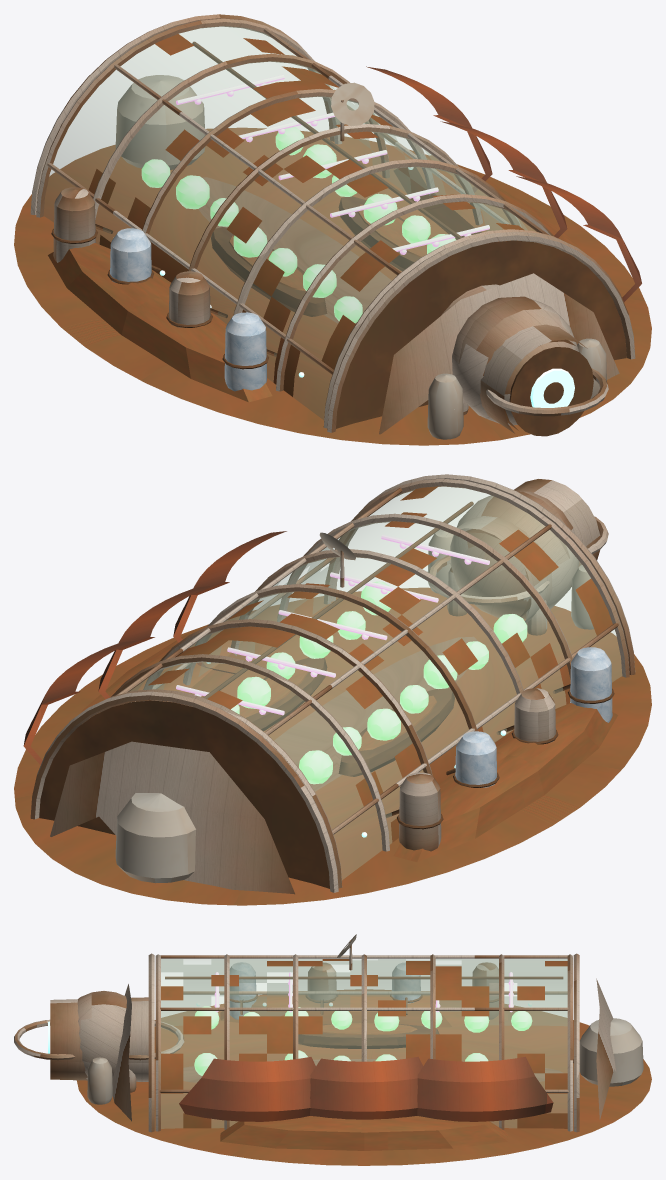
Rendered from greenhouse.glb.
3 views of the same model, one above another, from view 1: azimuth 30°, elevation 25°; view 2: azimuth 150°, elevation 25°; view 3: azimuth 270°, elevation 25° (orthographic). The views are drawn at different scales.
Visible parts, largest first — view 1: Glass, Pad, DiskFore, BermL, BulgeFore, Vestibule, Floor, Scrubber, EndRibFore, HatchDoor, BermR, Rib0 (+33 smaller); view 2: Glass, Pad, BulgeAft, DiskAft, BermL, Vestibule, Scrubber, Floor, EndRibAft, AirlockTube, Rib6, Rib1 (+31 smaller); view 3: Glass, Pad, BermR, Radiator0, Radiator2, Radiator1, AirlockTube, BermL, Vestibule, Scrubber, TroughL, BulgeAft (+26 smaller).
Part boxes in pixels (x1,y1,x2,y2): Glass: (44,26,535,419); Pad: (14,127,651,445); DiskFore: (336,240,626,428); BermL: (48,243,272,402); BulgeFore: (379,273,619,434); Vestibule: (452,296,578,425); Floor: (198,177,391,323); Scrubber: (115,75,204,169); EndRibFore: (327,231,635,432); HatchDoor: (509,347,593,436); BermR: (394,155,584,258); Rib0: (36,18,341,217); Glass: (129,486,621,879); Pad: (14,587,651,905); BulgeAft: (50,741,294,894); DiskAft: (39,700,329,888); BermL: (393,703,617,862); Vestibule: (450,491,578,619); Scrubber: (115,793,196,883); Floor: (274,636,477,791); EndRibAft: (30,691,338,892); AirlockTube: (457,479,600,622); Rib6: (324,478,629,677); Rib1: (104,654,389,851); Glass: (161,959,567,1128); Pad: (76,1004,651,1165); BermR: (220,1116,508,1150); Radiator0: (417,1056,553,1121); Radiator2: (179,1057,315,1121); Radiator1: (310,1056,422,1119); AirlockTube: (50,997,148,1081); BermL: (220,989,507,1027); Vestibule: (77,991,126,1079); Scrubber: (579,1018,643,1086); TroughL: (298,1024,438,1048); BulgeAft: (596,978,616,1119).
Bounding box in the file's own units: 10.71 × 4.28 × 16.66.
14 materials, 10 textured.
